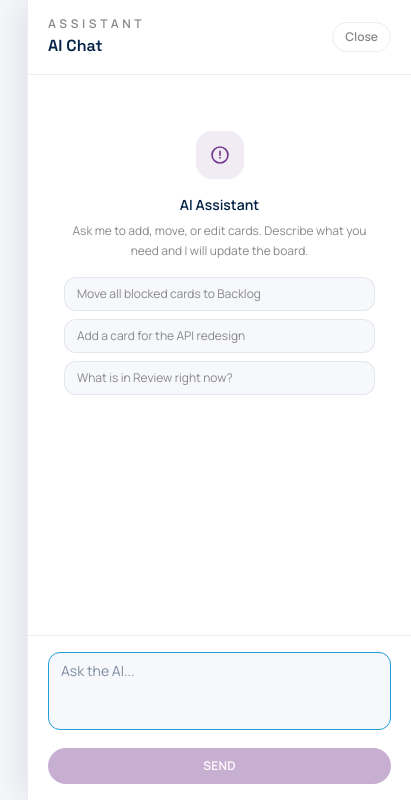
Test: AiSidebar › shows error message on API failure
The image size is (411, 800).
Type "Hello" into the text box named "Message".
click(220, 691); type("Hello")  # box x1=48 y1=652 x2=391 y2=730
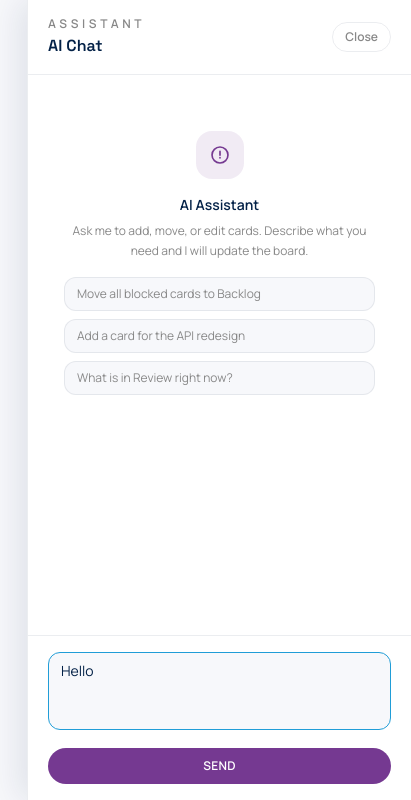
Click the button "Send".
click(220, 766)  # box x1=48 y1=748 x2=391 y2=784
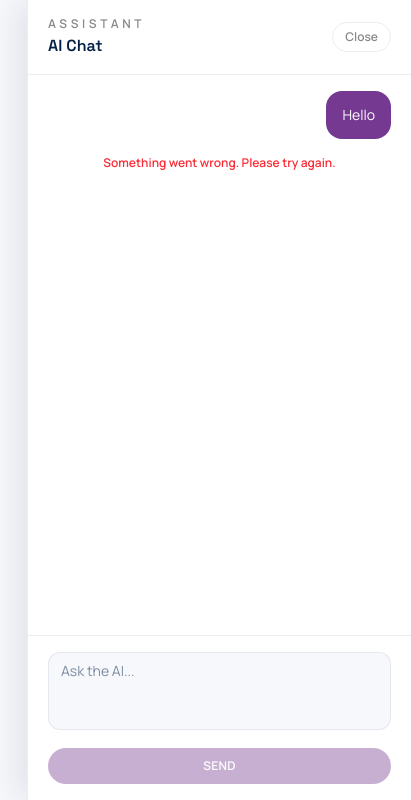
Check: the text "Something went wrong. Please try again." is shown, box x1=103 y1=154 x2=336 y2=171
